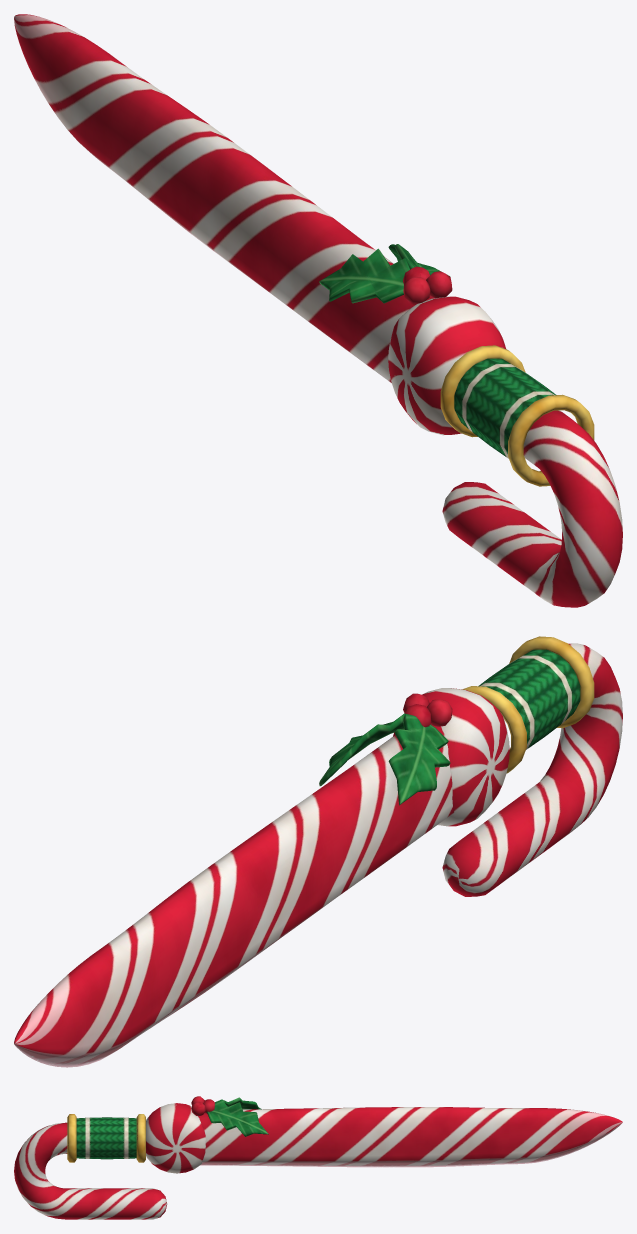
Rendered from blade.glb.
The picture shows the model from 3 angles, top to bottom: view 1: azimuth 30°, elevation 25°; view 2: azimuth 150°, elevation 25°; view 3: azimuth 270°, elevation 25°; orthographic projection. The views are drawn at different scales.
Parts seen in each view (by area): view 1: CandyCaneBlade; view 2: CandyCaneBlade; view 3: CandyCaneBlade.
Boxes of the visible parts, left/top/right/bottom form: CandyCaneBlade: left=14, top=14, right=622, bottom=607; CandyCaneBlade: left=14, top=636, right=622, bottom=1067; CandyCaneBlade: left=14, top=1096, right=622, bottom=1219.
Bounding box in the file's own units: 0.1019 × 0.2096 × 0.975.
1 material, 1 textured.
